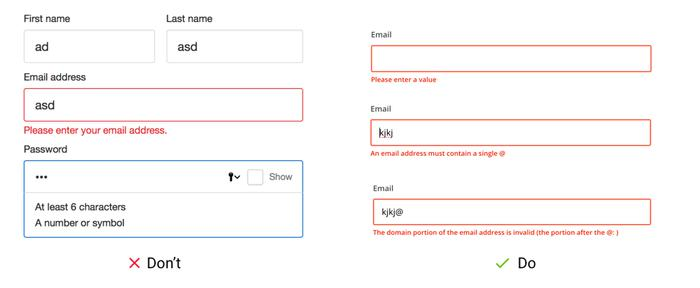error_field: (23, 87, 304, 122), (369, 44, 653, 73), (371, 197, 655, 226), (368, 117, 652, 146)
error_message: (372, 226, 621, 238), (21, 124, 169, 137), (369, 147, 505, 158), (370, 74, 440, 84)
